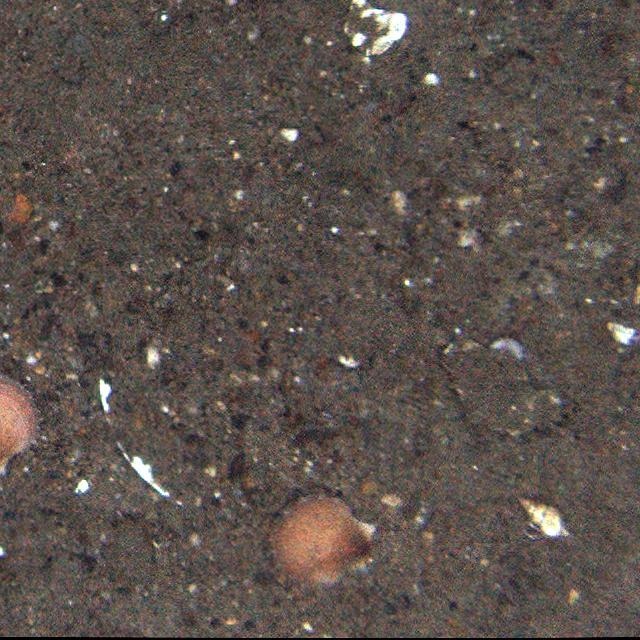scallop: (266, 482, 378, 596)
